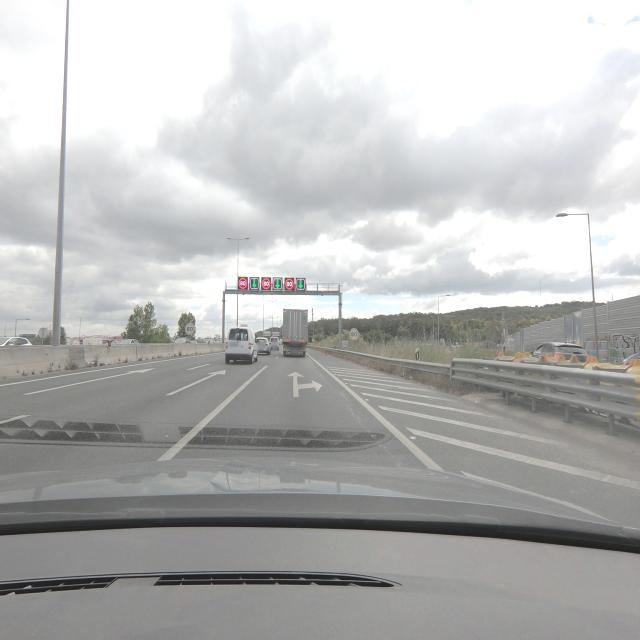car: (224, 324, 259, 364), (254, 335, 272, 356), (269, 336, 279, 350)
